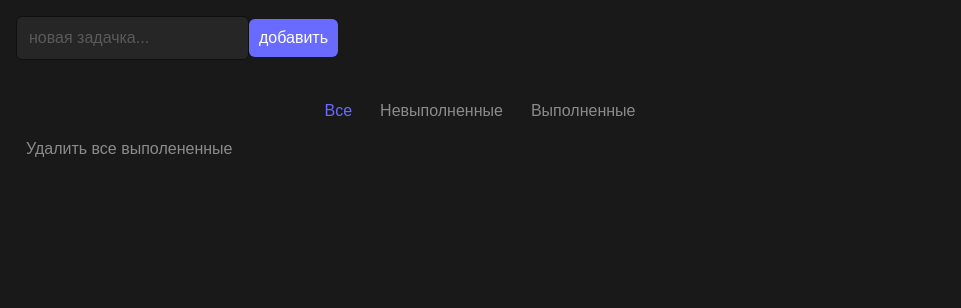
Test case: App › added todo has toggle checkbox
Type "todo_test_label" into the field with placeholder "новая задачка...".
click(132, 38); type("todo_test_label")  # box top-left (16, 16), bottom-right (249, 60)
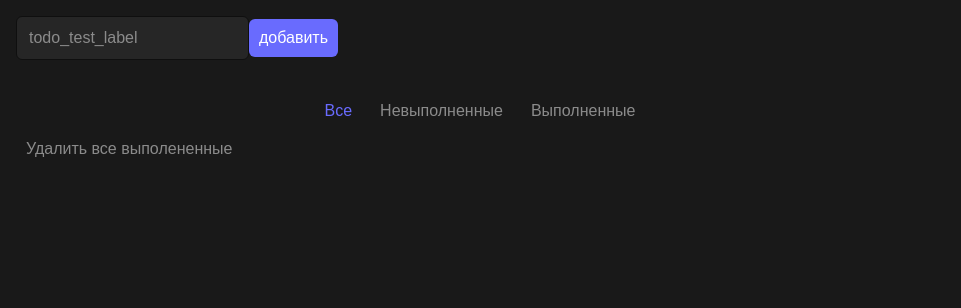
Click the button "добавить".
click(294, 38)  # box top-left (249, 19), bottom-right (338, 57)
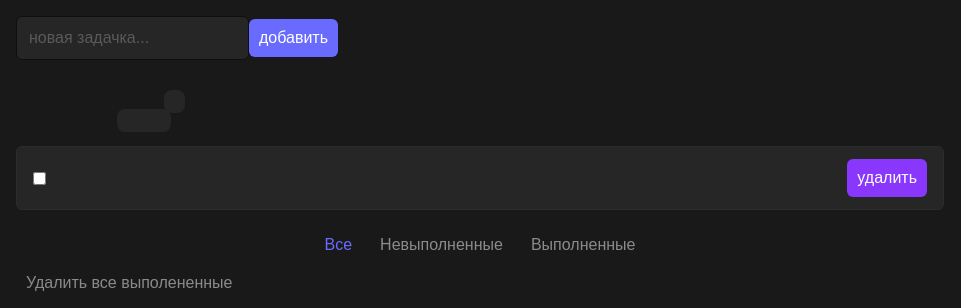
Expected: the checkbox is shown, top-left (33, 168), bottom-right (46, 188)
